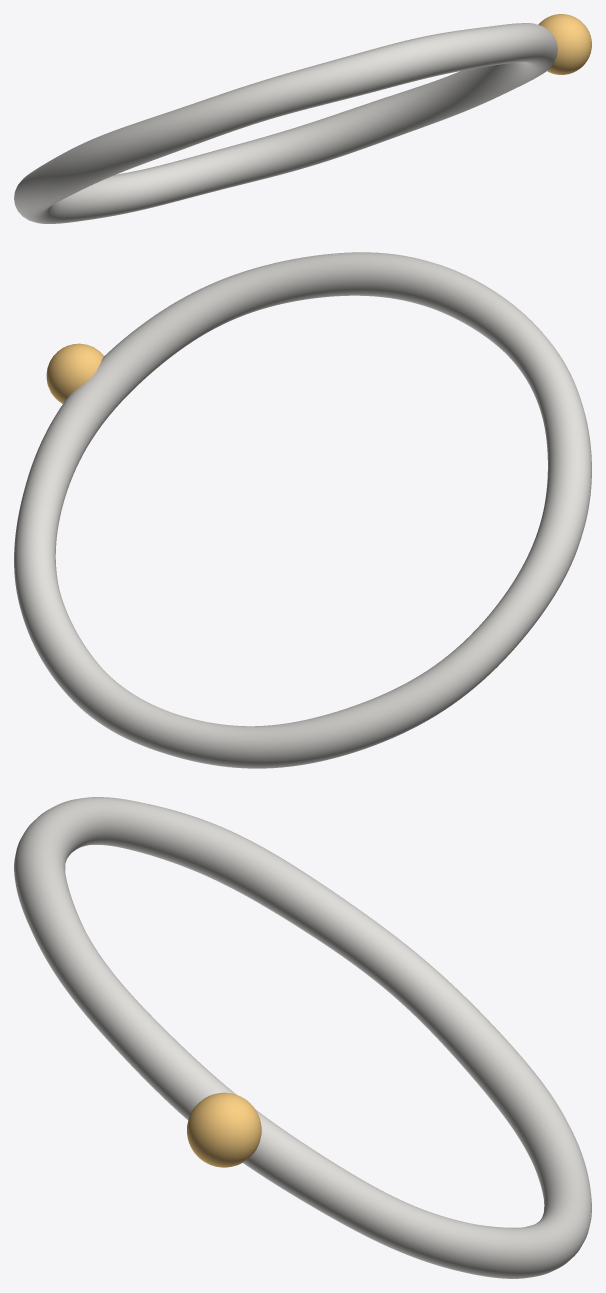
Rendered from golden.glb.
The picture shows the model from 3 angles, top to bottom: view 1: azimuth 30°, elevation 25°; view 2: azimuth 150°, elevation 25°; view 3: azimuth 270°, elevation 25°; orthographic projection. The views are drawn at different scales.
Size of the model in its own units: 0.0218 by 0.0125 by 0.0173.
